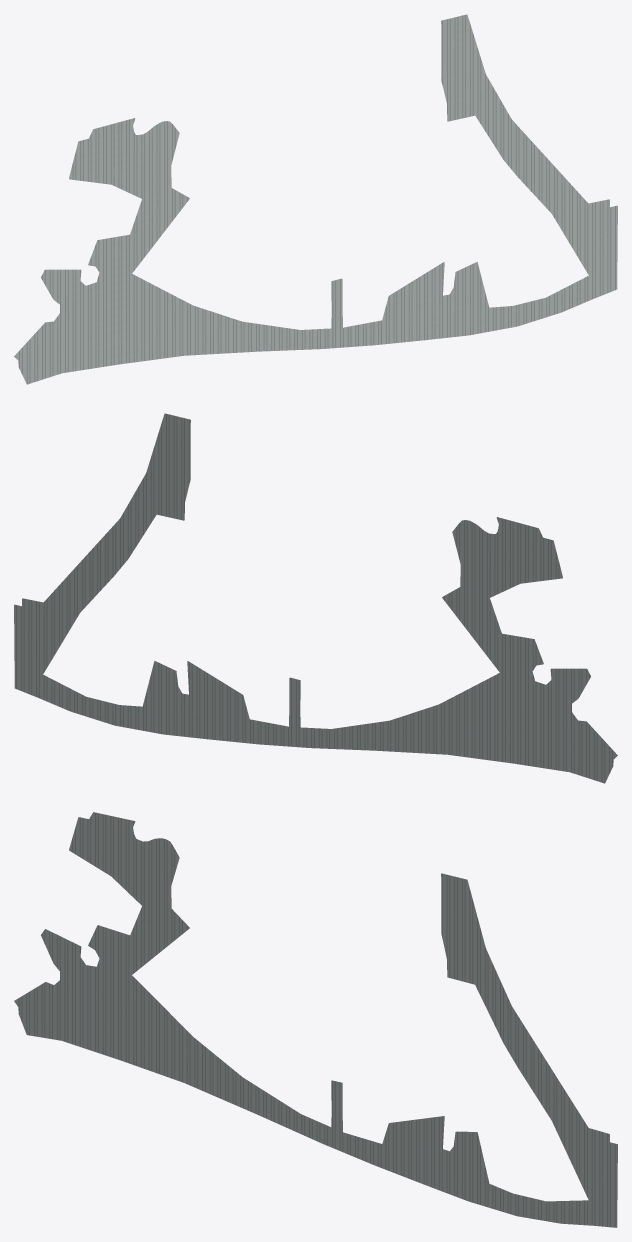
The model's file is floor_69.obj.
3 views of the same model, one above another, from view 1: azimuth 30°, elevation 25°; view 2: azimuth 150°, elevation 25°; view 3: azimuth 330°, elevation 25° (orthographic).
Visible parts, largest first — view 1: floor_69; view 2: floor_69; view 3: floor_69.
Boxes of the visible parts, box(x1,y1,x2,y2) form: floor_69: box(14, 14, 617, 384); floor_69: box(14, 413, 617, 783); floor_69: box(14, 812, 617, 1227).
Size of the model in its own units: 78.99 by 40.53 by 0.1.
Materials: 1 (1 with a texture image).
